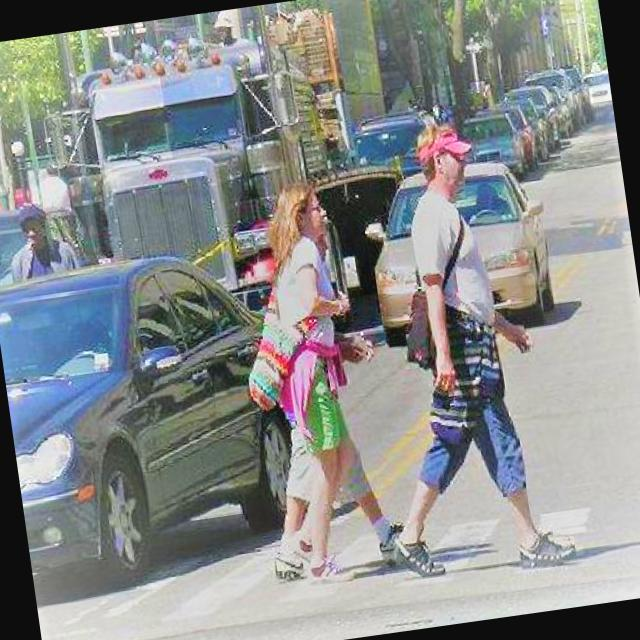Person: (332, 109, 584, 586), (248, 174, 390, 593)
